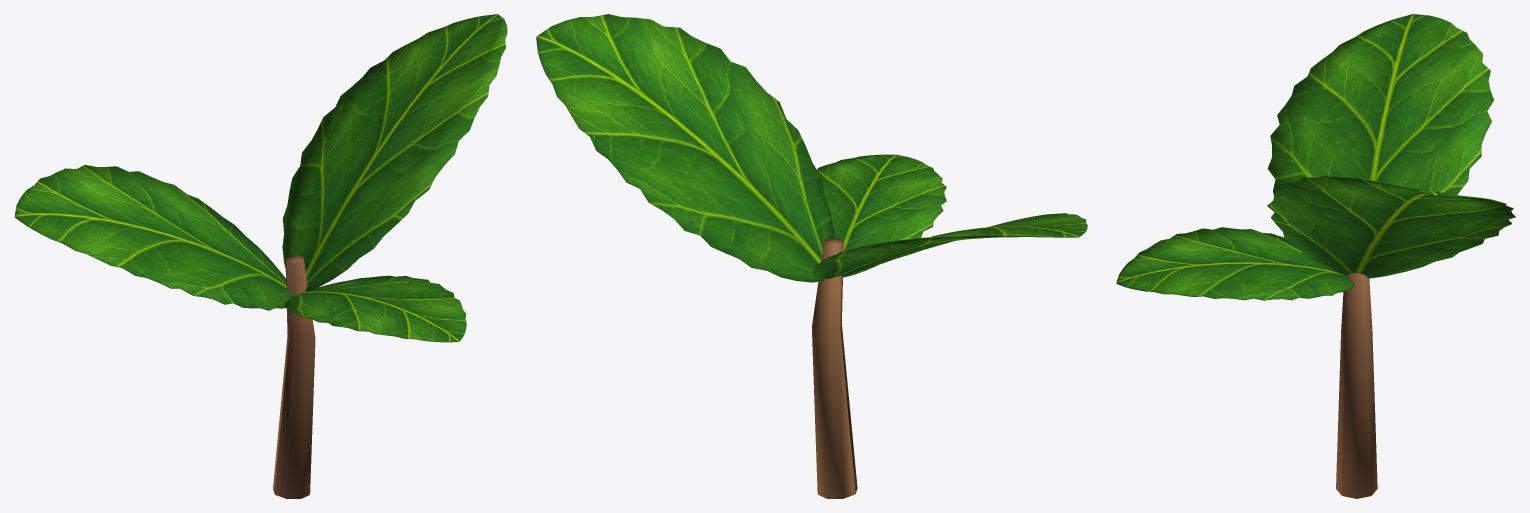
Rendered from NP_Blackberry_Sprout.fbx.
3 renders of one model, left to right at view 1: azimuth 30°, elevation 25°; view 2: azimuth 150°, elevation 25°; view 3: azimuth 270°, elevation 25°, orthographic. The views are drawn at different scales.
Parts seen in each view (by area): view 1: NP_Blackberry_Sprout; view 2: NP_Blackberry_Sprout; view 3: NP_Blackberry_Sprout.
Boxes of the visible parts, x1,y1,x2,y2 form: NP_Blackberry_Sprout: (14, 14, 507, 498); NP_Blackberry_Sprout: (536, 14, 1087, 498); NP_Blackberry_Sprout: (1116, 14, 1515, 498).
Bounding box in the file's own units: 29.58 × 22.66 × 19.15.
